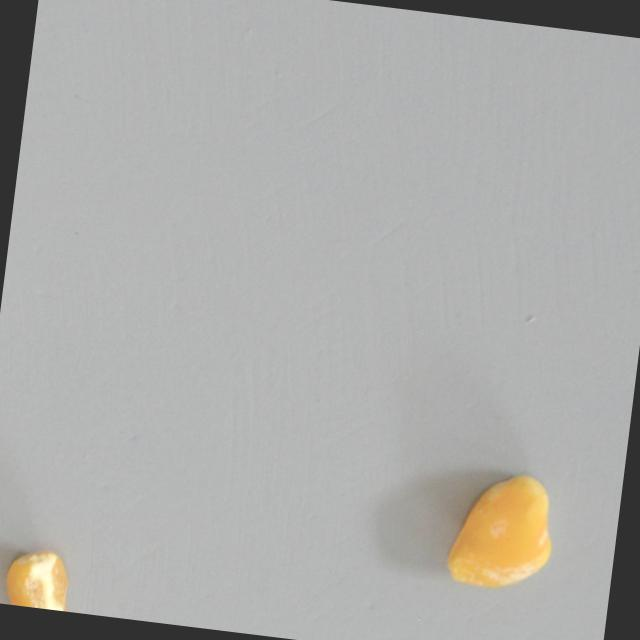estandar: (0, 545, 76, 612)
pelicula: (441, 462, 559, 596)
